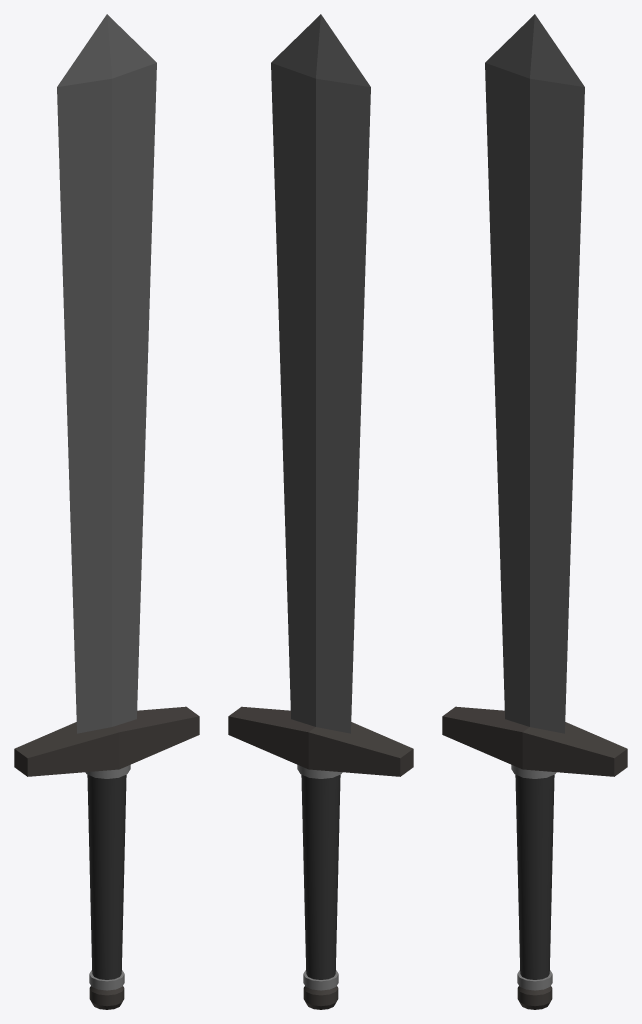
Rendered from Long Sword.glb.
3 views of the same model, side by side, from view 1: azimuth 30°, elevation 25°; view 2: azimuth 150°, elevation 25°; view 3: azimuth 330°, elevation 25° (orthographic).
Parts seen in each view (by area): view 1: Long Sword; view 2: Long Sword; view 3: Long Sword.
Boxes of the visible parts, x1,y1,x2,y2 form: Long Sword: (14,14,199,1009); Long Sword: (228,14,413,1009); Long Sword: (442,14,627,1009).
Size of the model in its own units: 0.1742 by 0.958 by 0.0436.
Materials: 1 (1 with a texture image).
